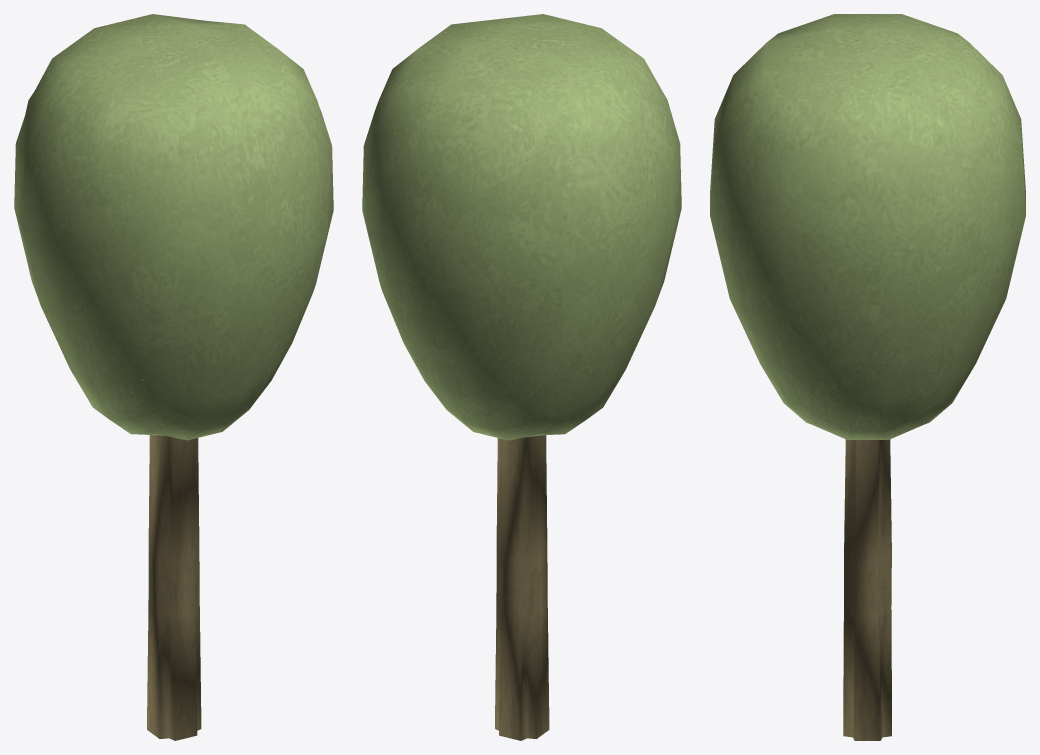
The model's file is THETREE3.FBX.
3 renders of one model, left to right at view 1: azimuth 30°, elevation 25°; view 2: azimuth 150°, elevation 25°; view 3: azimuth 270°, elevation 25°, orthographic.
Parts seen in each view (by area): view 1: Tree004; view 2: Tree004; view 3: Tree004.
Part boxes in pixels (x1,y1,x2,y2): Tree004: (14, 14, 333, 740); Tree004: (362, 14, 681, 740); Tree004: (710, 14, 1025, 740).
Size of the model in its own units: 40.44 by 96.75 by 40.44.
